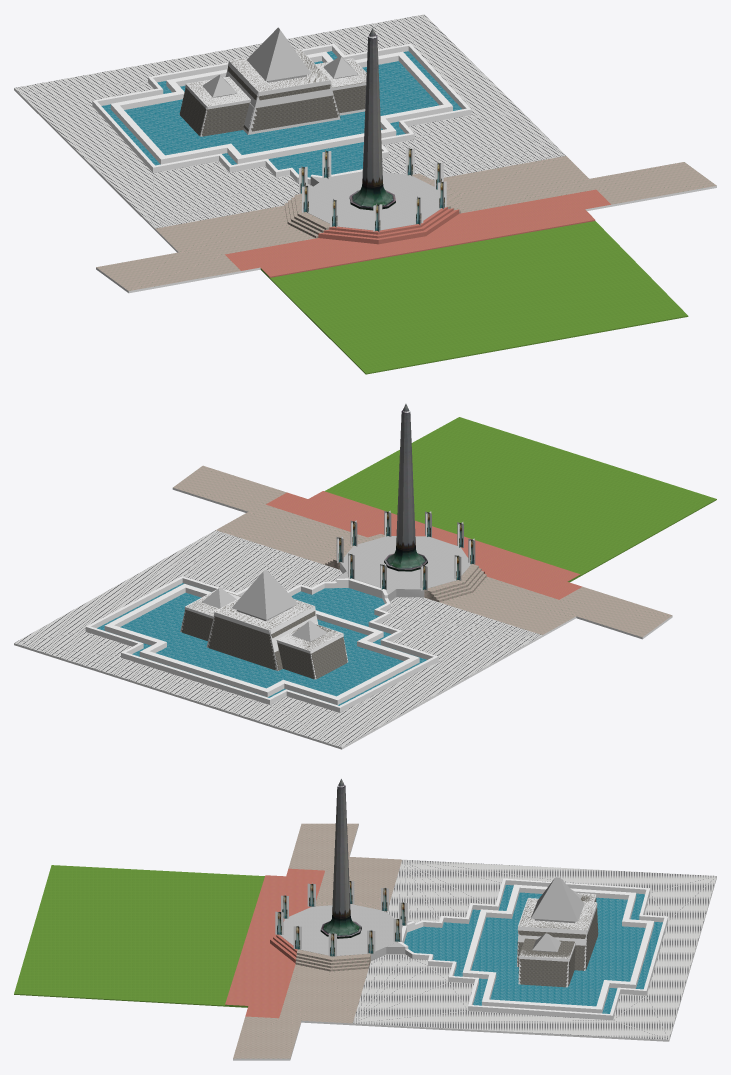
File: monumen_tugu_pahlawan_dan_museum_10_november.glb
The picture shows the model from 3 angles, top to bottom: view 1: azimuth 30°, elevation 25°; view 2: azimuth 150°, elevation 25°; view 3: azimuth 270°, elevation 25°; orthographic projection. The views are drawn at different scales.
Visible parts, largest first — view 1: Mesh41_Grass_Dark_Green_0, Mesh41_Ornate_Tile_01_0, Mesh41_Encaustic_Tile_Circular_02_0, Mesh41_FrontColor_0, Mesh41_Tile_Hexagon_White_0, Mesh41_Water_Pool_0, Mesh41_Rough_Square_Concrete_Block_0, Mesh41_Cladding_Stucco_White_0, Mesh7_Color_M01_0, Mesh5_Translucent_Glass_Gray_0, Mesh41_Translucent_Glass_Gray_0, Mesh41_Color_M01_0 (+6 smaller); view 2: Mesh41_Grass_Dark_Green_0, Mesh41_Ornate_Tile_01_0, Mesh41_Encaustic_Tile_Circular_02_0, Mesh41_FrontColor_0, Mesh41_Water_Pool_0, Mesh41_Tile_Hexagon_White_0, Mesh41_Rough_Square_Concrete_Block_0, Mesh41_Cladding_Stucco_White_0, Mesh5_Translucent_Glass_Gray_0, Mesh7_Color_M01_0, Mesh41_Color_M01_0, Mesh29_tugu_0 (+4 smaller); view 3: Mesh41_Grass_Dark_Green_0, Mesh41_Ornate_Tile_01_0, Mesh41_Water_Pool_0, Mesh41_Encaustic_Tile_Circular_02_0, Mesh41_FrontColor_0, Mesh41_Tile_Hexagon_White_0, Mesh41_Rough_Square_Concrete_Block_0, Mesh41_Cladding_Stucco_White_0, Mesh7_Color_M01_0, Mesh5_Translucent_Glass_Gray_0, Mesh41_Translucent_Glass_Gray_0, Mesh24_tugu_0 (+4 smaller).
Boxes of the visible parts, x1=… form: Mesh41_Grass_Dark_Green_0: x1=260, y1=221, x2=688, y2=374; Mesh41_Ornate_Tile_01_0: x1=14, y1=14, x2=565, y2=228; Mesh41_Encaustic_Tile_Circular_02_0: x1=96, y1=156, x2=716, y2=290; Mesh41_FrontColor_0: x1=14, y1=43, x2=716, y2=293; Mesh41_Tile_Hexagon_White_0: x1=225, y1=189, x2=610, y2=277; Mesh41_Water_Pool_0: x1=101, y1=51, x2=461, y2=177; Mesh41_Rough_Square_Concrete_Block_0: x1=180, y1=49, x2=366, y2=136; Mesh41_Cladding_Stucco_White_0: x1=308, y1=170, x2=441, y2=230; Mesh7_Color_M01_0: x1=225, y1=49, x2=340, y2=134; Mesh5_Translucent_Glass_Gray_0: x1=247, y1=27, x2=311, y2=81; Mesh41_Translucent_Glass_Gray_0: x1=208, y1=30, x2=353, y2=95; Mesh41_Color_M01_0: x1=185, y1=49, x2=366, y2=109; Mesh41_Grass_Dark_Green_0: x1=324, y1=417, x2=716, y2=582; Mesh41_Ornate_Tile_01_0: x1=14, y1=530, x2=541, y2=747; Mesh41_Encaustic_Tile_Circular_02_0: x1=173, y1=465, x2=672, y2=637; Mesh41_FrontColor_0: x1=14, y1=488, x2=672, y2=749; Mesh41_Water_Pool_0: x1=97, y1=583, x2=426, y2=705; Mesh41_Tile_Hexagon_White_0: x1=266, y1=491, x2=582, y2=599; Mesh41_Rough_Square_Concrete_Block_0: x1=181, y1=592, x2=347, y2=679; Mesh41_Cladding_Stucco_White_0: x1=337, y1=536, x2=471, y2=601; Mesh5_Translucent_Glass_Gray_0: x1=232, y1=569, x2=297, y2=619; Mesh7_Color_M01_0: x1=206, y1=599, x2=318, y2=670; Mesh41_Color_M01_0: x1=184, y1=589, x2=343, y2=653; Mesh29_tugu_0: x1=398, y1=405, x2=411, y2=571; Mesh41_Grass_Dark_Green_0: x1=14, y1=865, x2=264, y2=1007; Mesh41_Ornate_Tile_01_0: x1=353, y1=859, x2=716, y2=1039; Mesh41_Water_Pool_0: x1=404, y1=885, x2=662, y2=1013; Mesh41_Encaustic_Tile_Circular_02_0: x1=233, y1=823, x2=401, y2=1058; Mesh41_FrontColor_0: x1=233, y1=824, x2=716, y2=1060; Mesh41_Tile_Hexagon_White_0: x1=225, y1=868, x2=324, y2=1018; Mesh41_Rough_Square_Concrete_Block_0: x1=517, y1=894, x2=598, y2=987; Mesh41_Cladding_Stucco_White_0: x1=280, y1=904, x2=412, y2=960; Mesh7_Color_M01_0: x1=517, y1=898, x2=596, y2=970; Mesh5_Translucent_Glass_Gray_0: x1=531, y1=877, x2=584, y2=921; Mesh41_Translucent_Glass_Gray_0: x1=534, y1=880, x2=581, y2=949; Mesh24_tugu_0: x1=338, y1=779, x2=351, y2=938.
Size of the model in its own units: 1.33 by 0.4253 by 1.68.
Materials: 15 (10 with a texture image).
